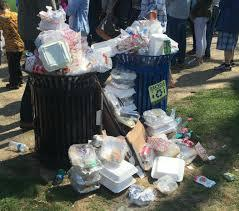trash: (71, 108, 216, 200), (18, 5, 113, 78), (108, 11, 190, 56), (102, 63, 137, 113), (8, 136, 33, 155)
trash_can_overflow: (18, 0, 108, 204), (106, 2, 187, 201)
